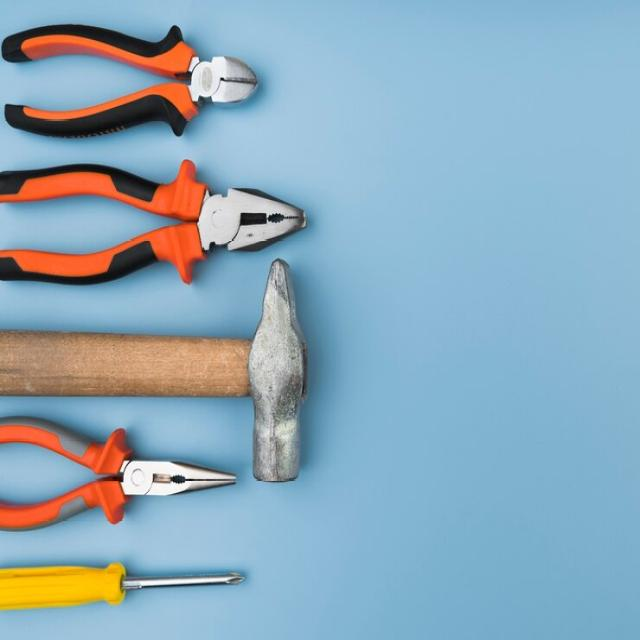Screwdriver: (0, 562, 245, 609)
